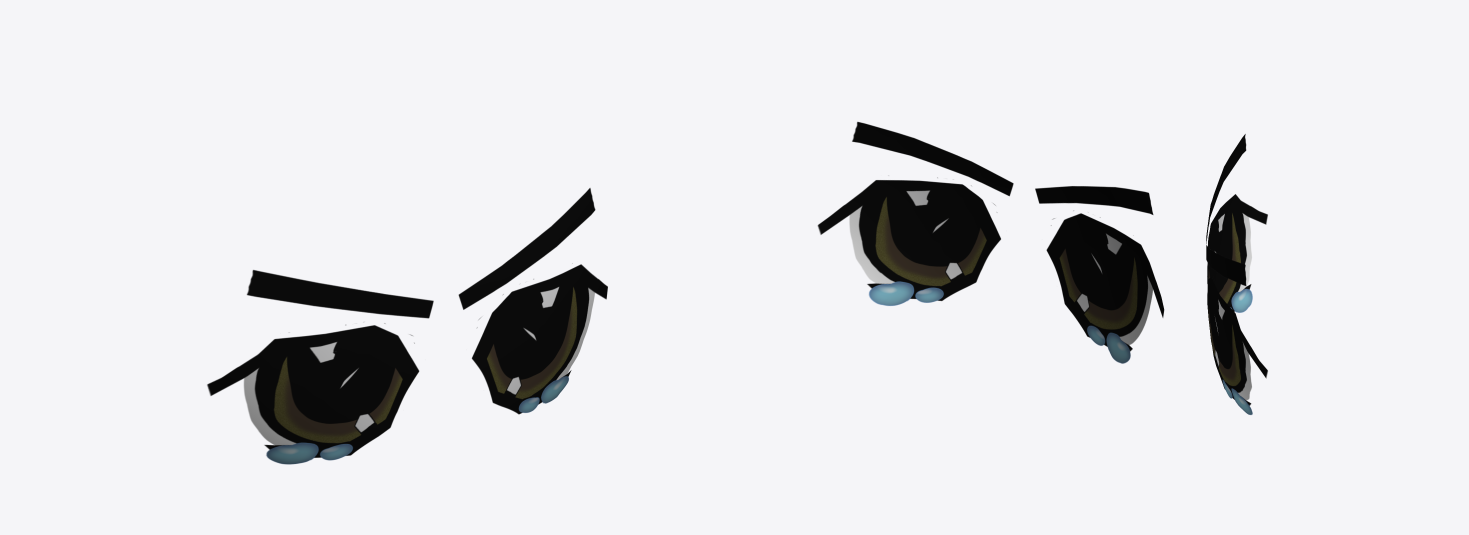
Rendered from Teary_Brown.glb.
The picture shows the model from 3 angles, left to right: view 1: azimuth 30°, elevation 25°; view 2: azimuth 150°, elevation 25°; view 3: azimuth 270°, elevation 25°; orthographic projection. The views are drawn at different scales.
Visible parts, largest first — view 1: Teary_Brown; view 2: Teary_Brown; view 3: Teary_Brown.
Part boxes in pixels (x1,y1,x2,y2): Teary_Brown: (207,188,607,464); Teary_Brown: (817,122,1164,363); Teary_Brown: (1206,134,1267,414).
Size of the model in its own units: 0.8827 by 0.6239 by 0.4009.
1 material, 1 textured.
